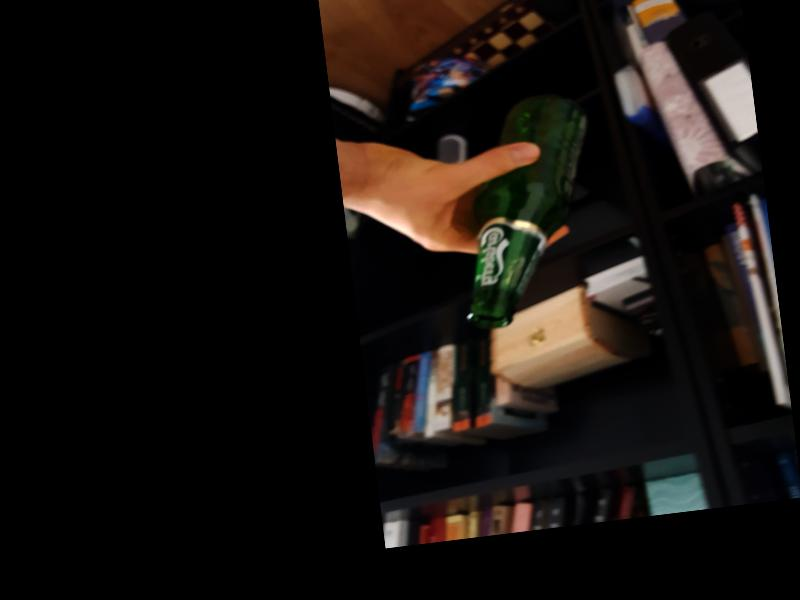Beer: (444, 88, 614, 330)
